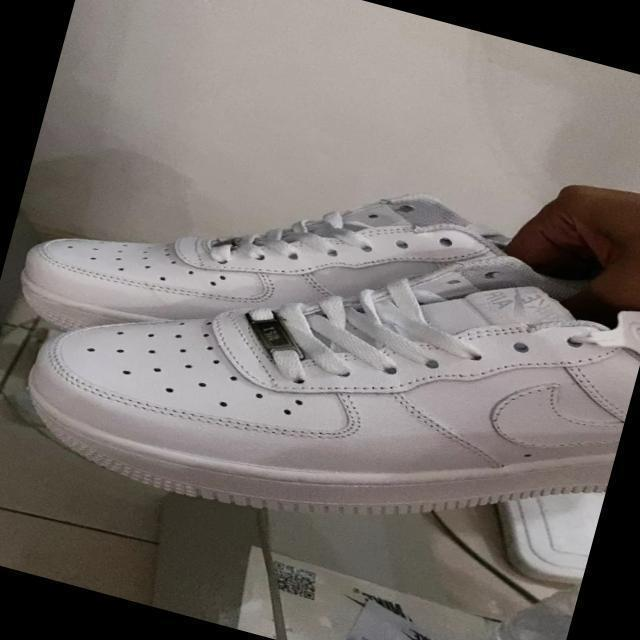nike original air force: (0, 132, 640, 602), (1, 101, 557, 447)
